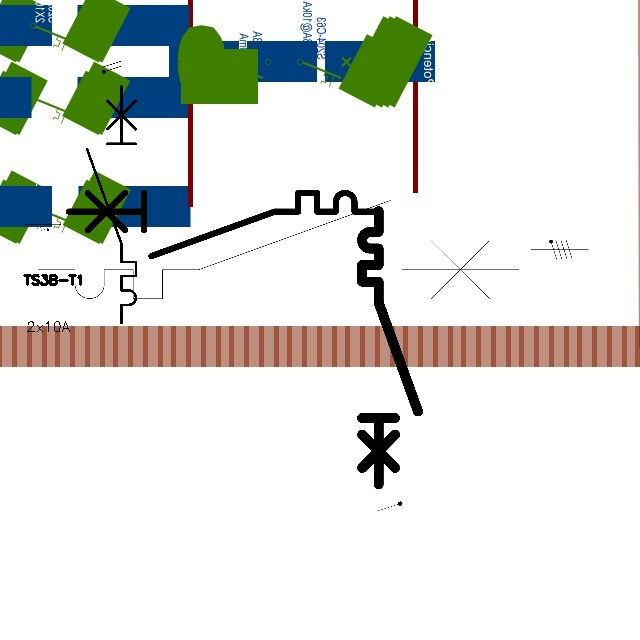interruptor_termomagnetico: (26, 188, 530, 311), (60, 185, 385, 264), (355, 204, 425, 492), (81, 80, 142, 329)
